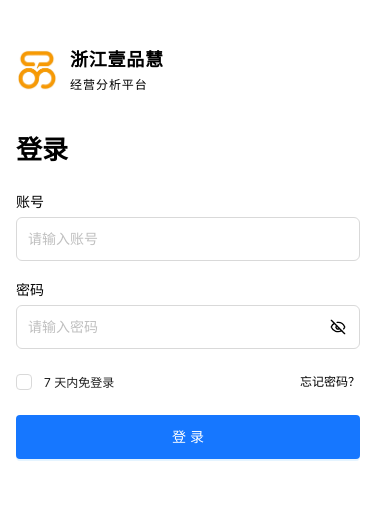
Scenario: 登录页图形验证码按需出现 › 提示普通密码错误（401）时不会误展开验证码框
In the field labelled "账号": point(188, 238) [16,216,360,260], type "alice"
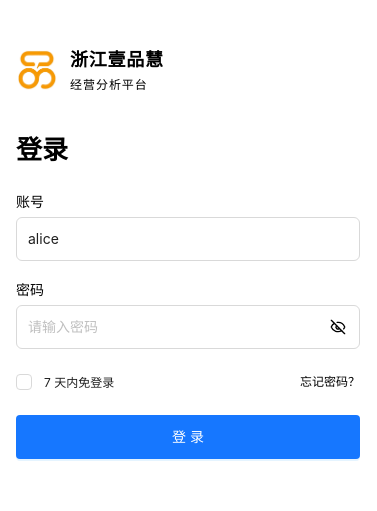
In the password field labelled "密码": point(188, 326) [16,304,360,348], type "wrong"
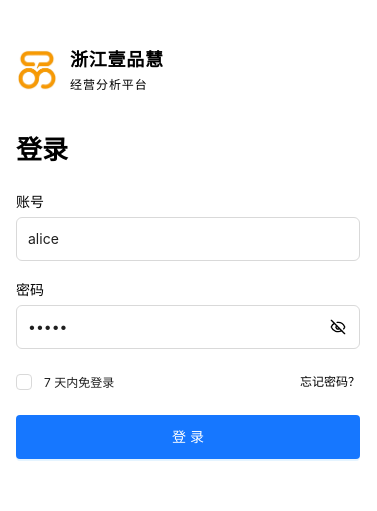
Click the button "登 录": point(188, 436) [16,414,360,458]
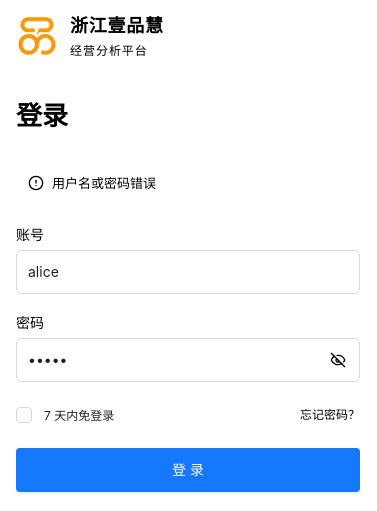
Check: the text "用户名或密码错误" is shown, box [52,173,156,194]
